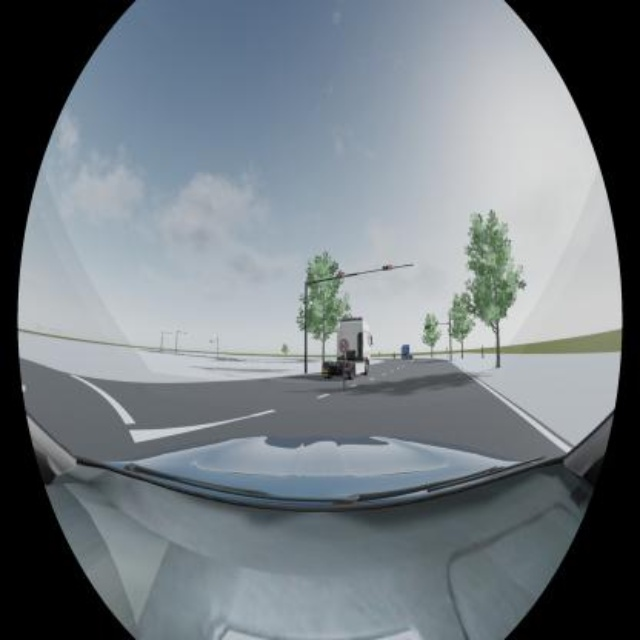Tốc độ tối đa cho phép 80km/h: (340, 338, 349, 352)
Đèn xanh: (424, 325, 433, 330)
Đèn đỏ: (382, 265, 392, 271), (337, 272, 345, 277)
